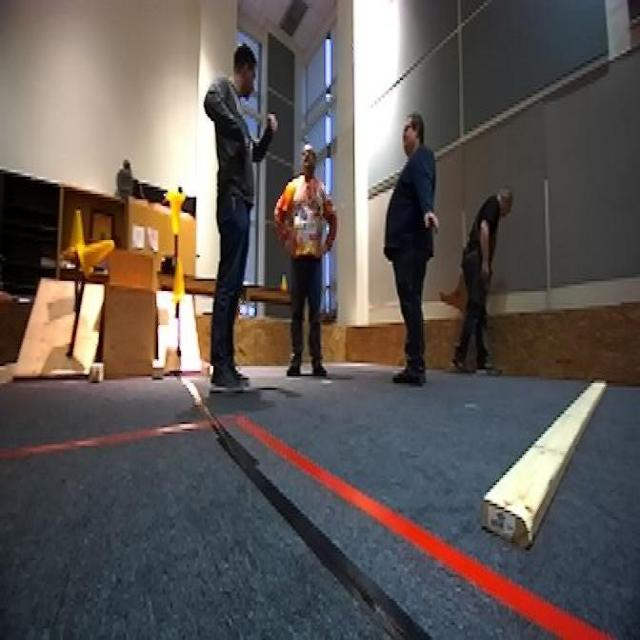frc_cone: (70, 233, 114, 278), (66, 209, 88, 257), (164, 189, 187, 233), (170, 258, 187, 304)
